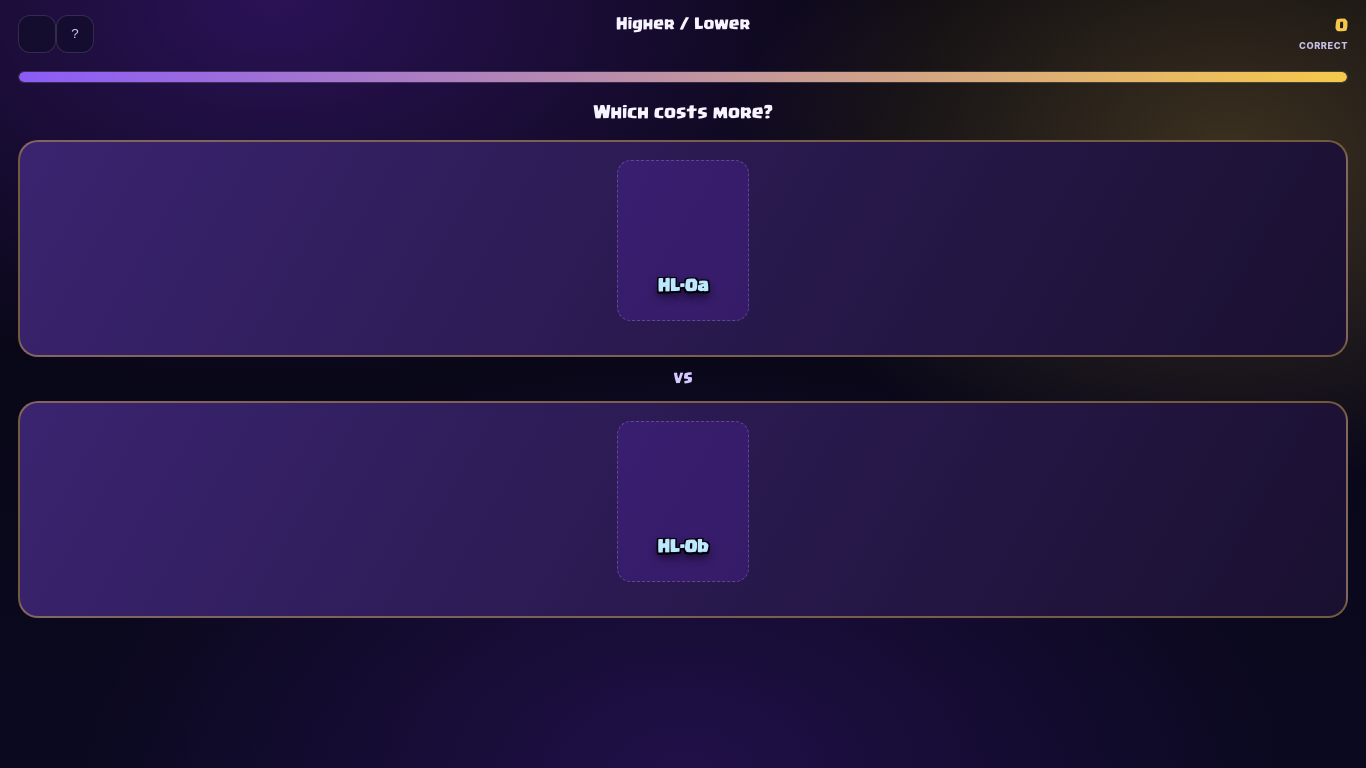
it: Higher / Lower — gameplay › the third miss ends the run and reports the total correct
Click the button "HL-0a".
click(98, 249)  # box [18, 140, 1348, 357]
Wait 800 ms
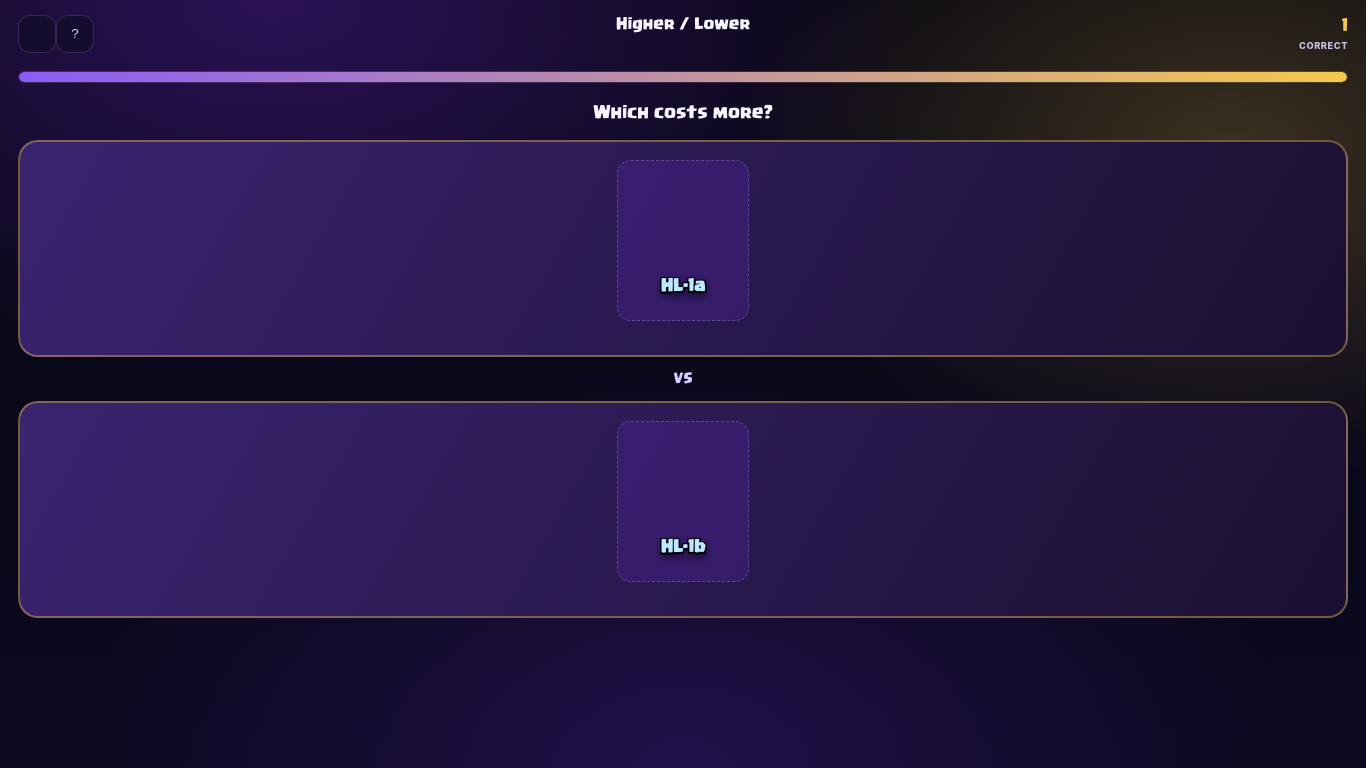
Click the button "HL-1b".
click(98, 510)  # box [18, 402, 1348, 619]
Wait 1500 ms
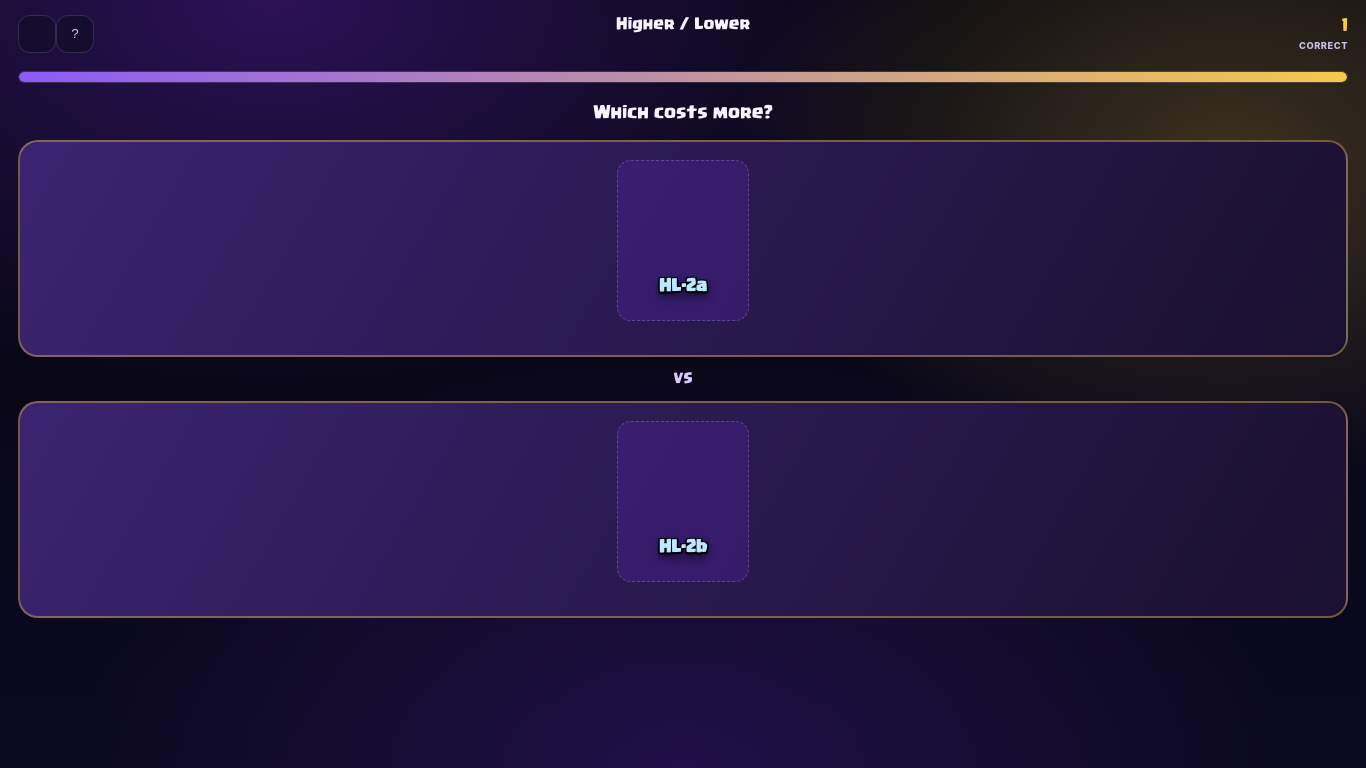
Click the button "HL-2b".
click(98, 510)  # box [18, 402, 1348, 619]
Wait 1500 ms
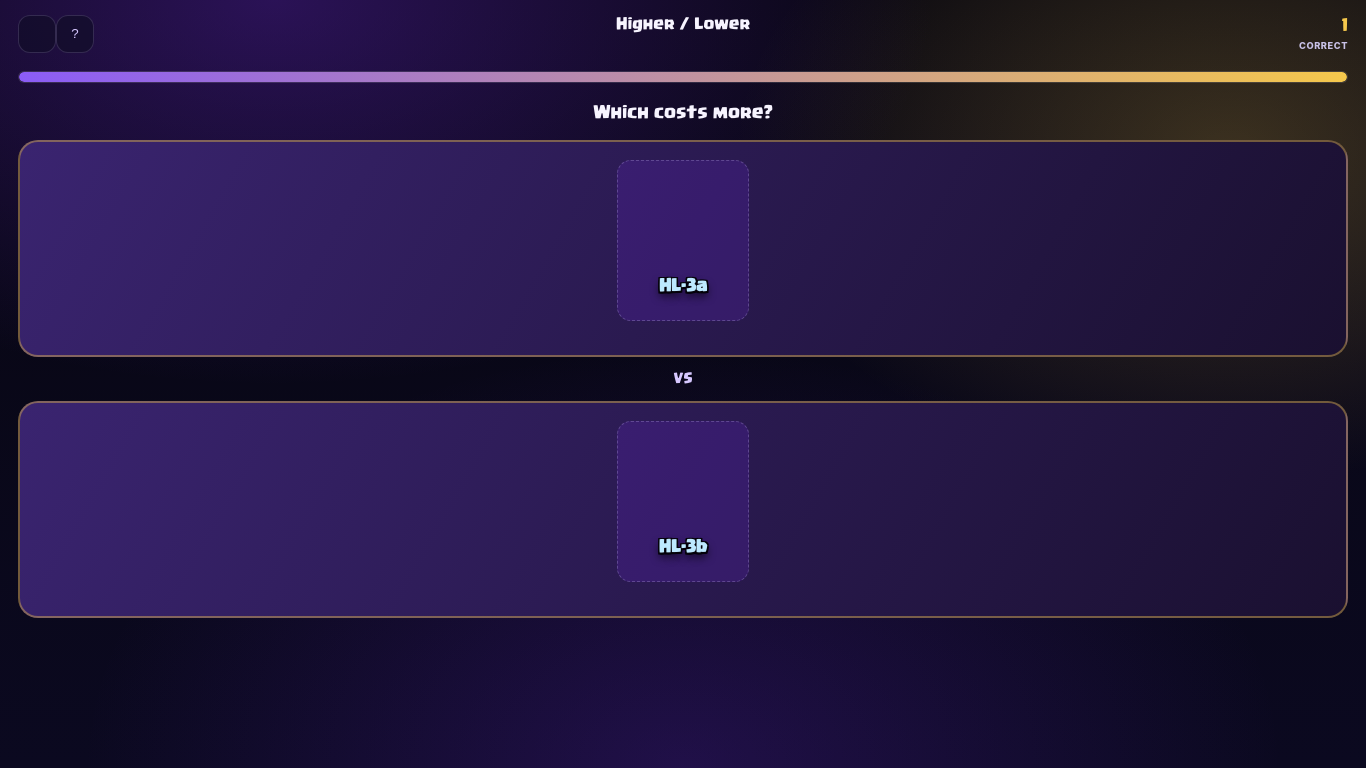
Click the button "HL-3b".
click(98, 510)  # box [18, 402, 1348, 619]
Wait 1500 ms
(page scrolled)
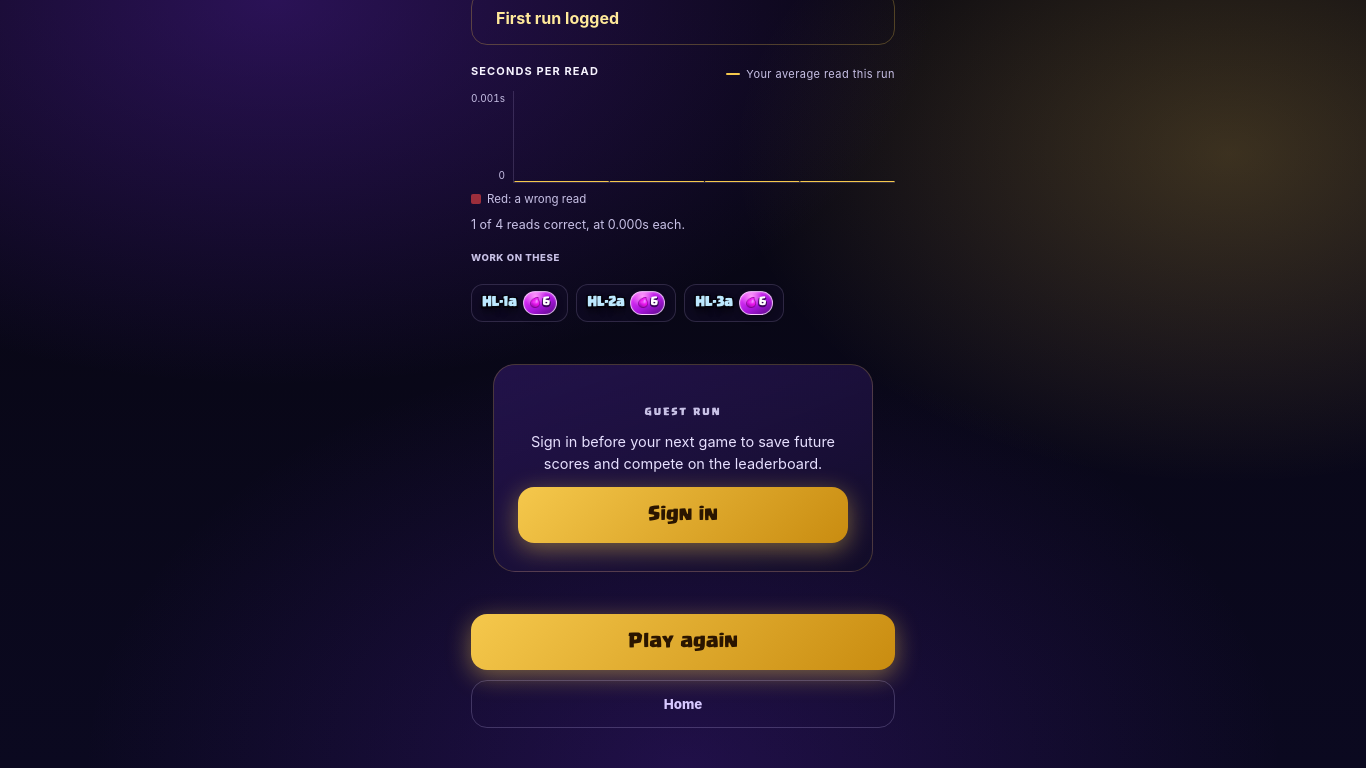
Expected: the element with class "ed-duel" is gone
Expected: the element with class "ed-sum__actions" shows "Play again", [471, 614, 895, 670]
Expected: the element with class "ed-sum__actions" shows "Home", [471, 680, 895, 728]
